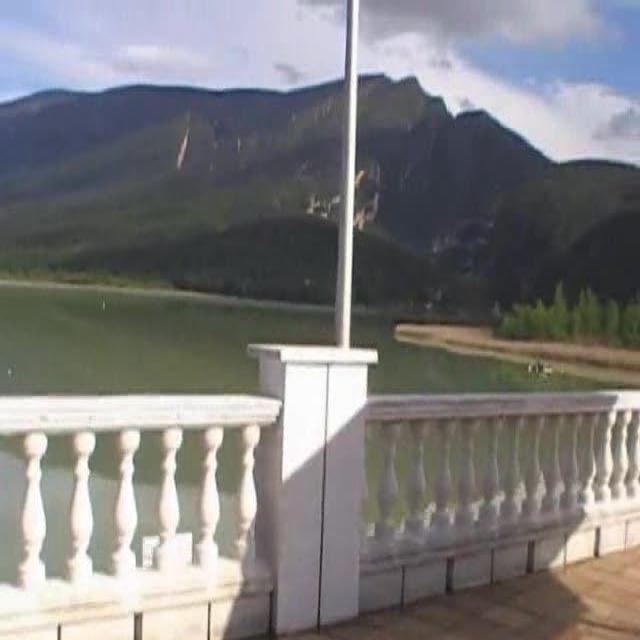other: (594, 399, 633, 556)
